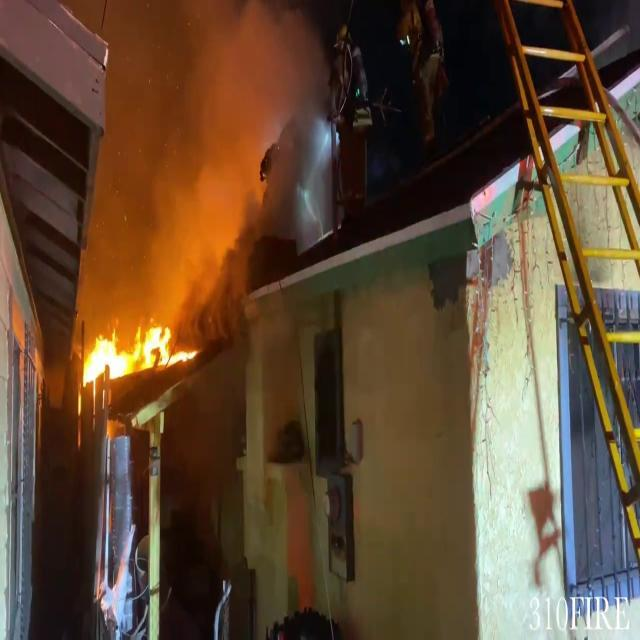Fire: (80, 311, 188, 393)
Smoke: (70, 0, 330, 311)
